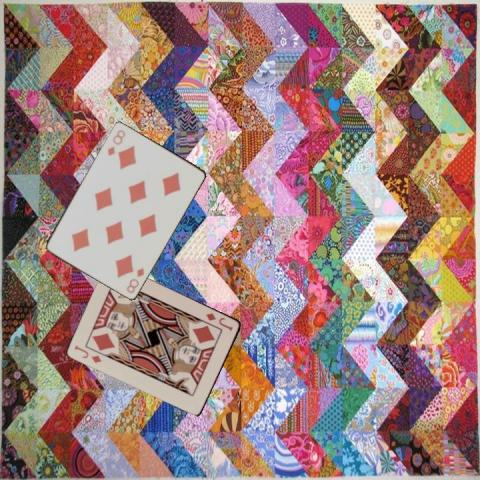8d: (104, 126, 127, 157), (124, 264, 146, 295)
Jd: (71, 341, 103, 364), (203, 310, 235, 332)
